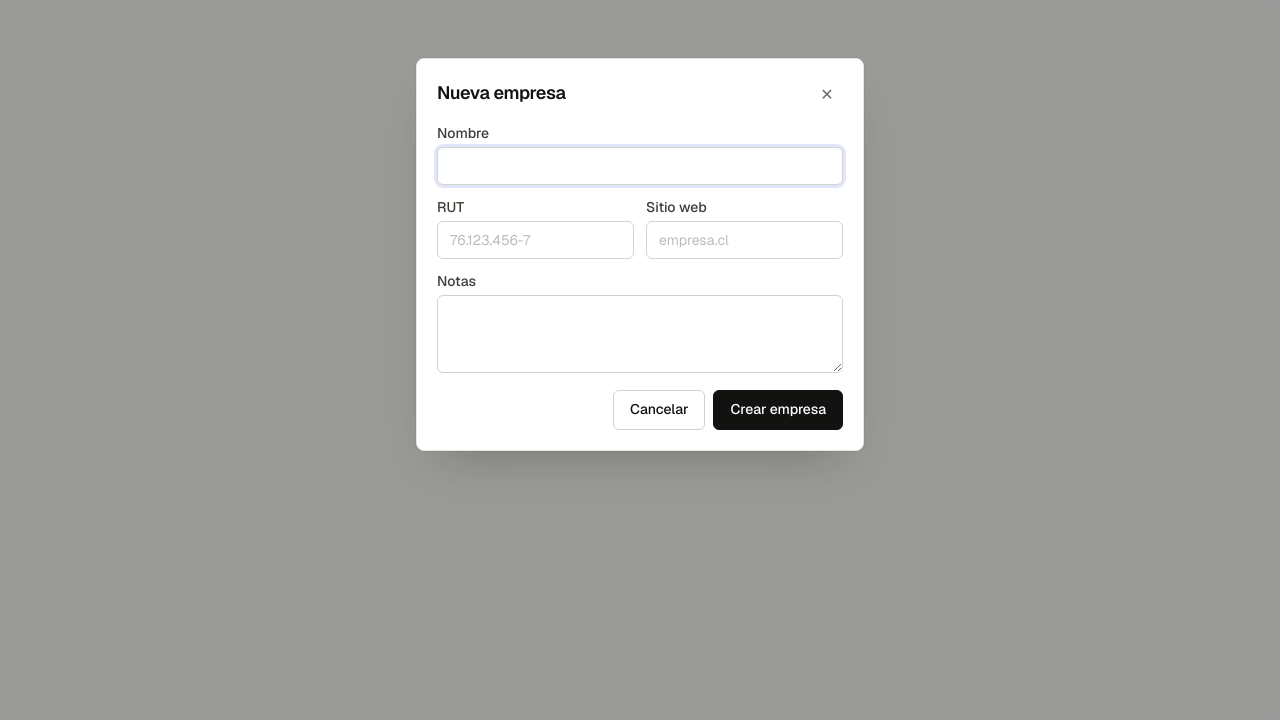
Test: EmpresaDialogo › exige nombre y crea la empresa
Later steps or results of the test are not shown.
Click the button "Crear empresa" at x=778, y=410, box [714,390,843,430]
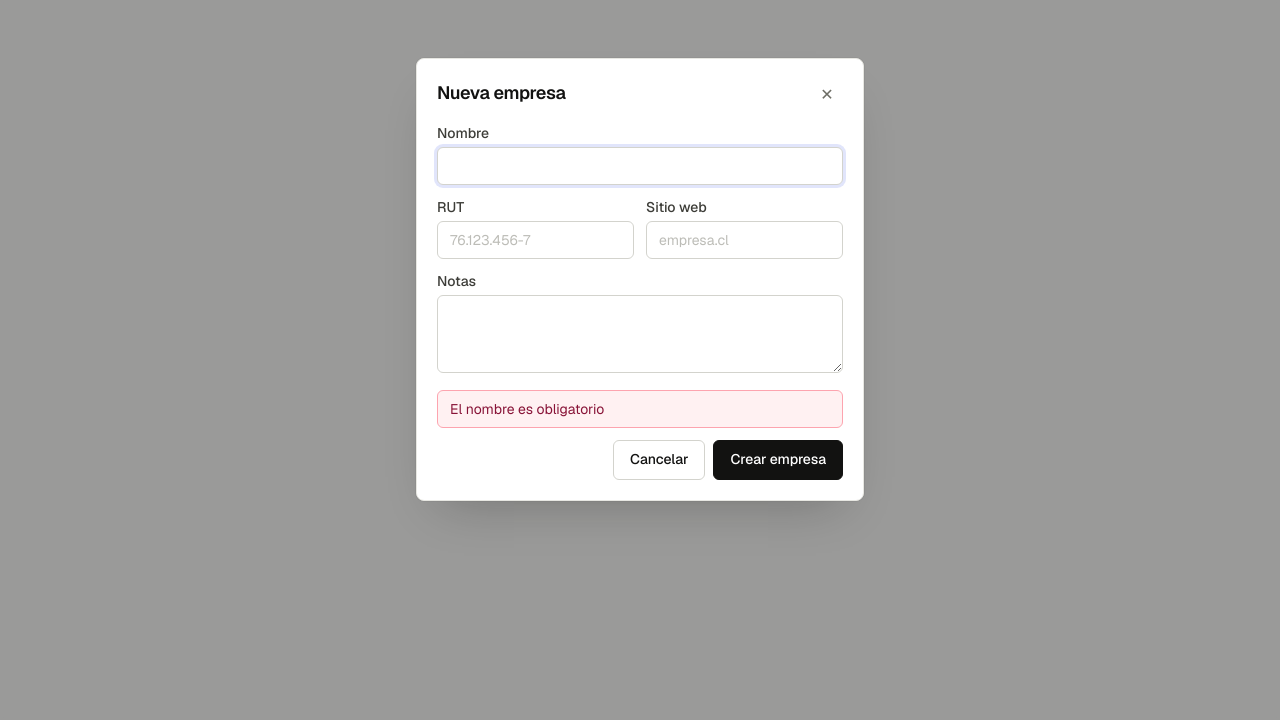
Expected: the message reads "El nombre es obligatorio", [450,400,604,418]
